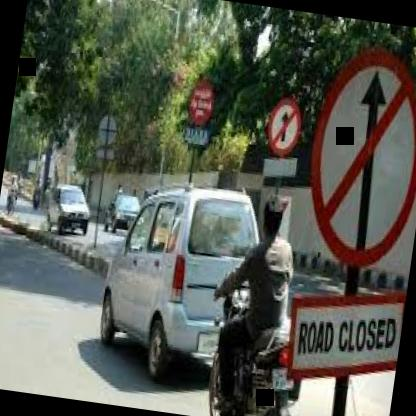car: (64, 168, 274, 398), (46, 161, 106, 266), (96, 173, 155, 242)
